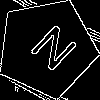N: (22, 23, 80, 80)
